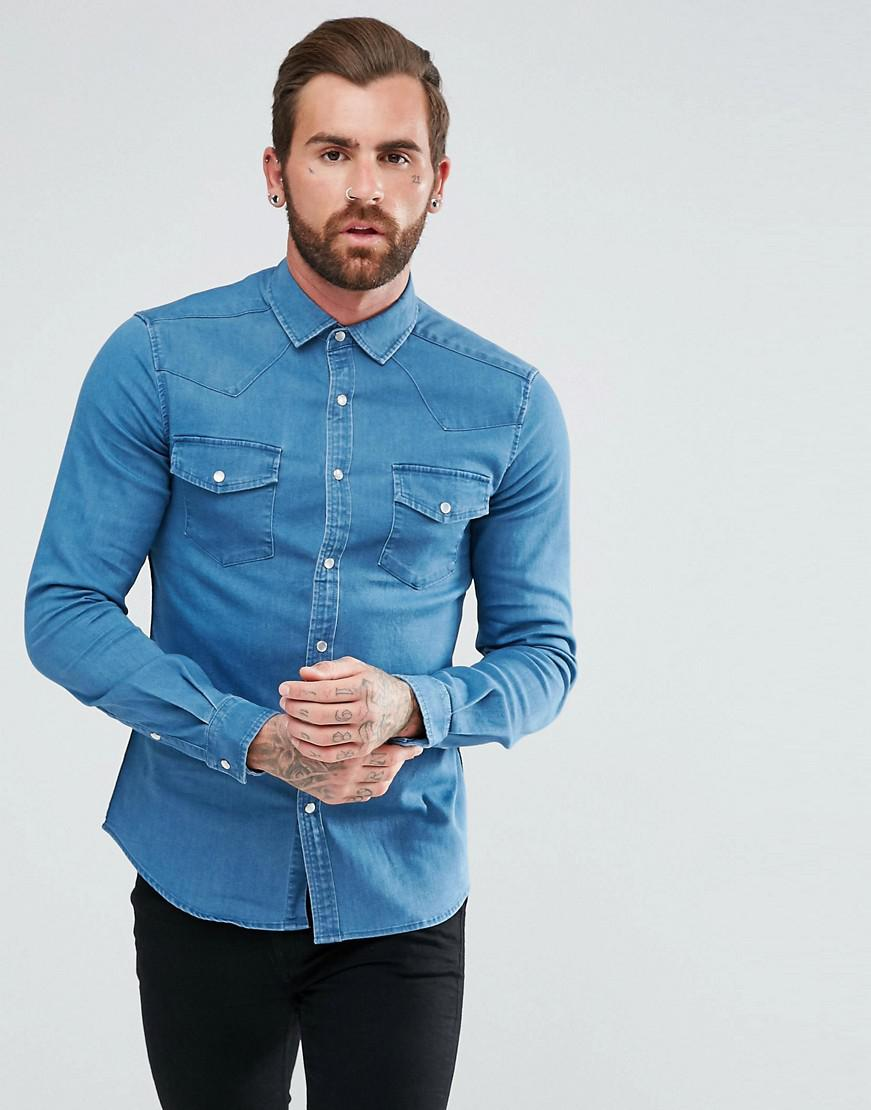teeshirt: (32, 247, 583, 939)
